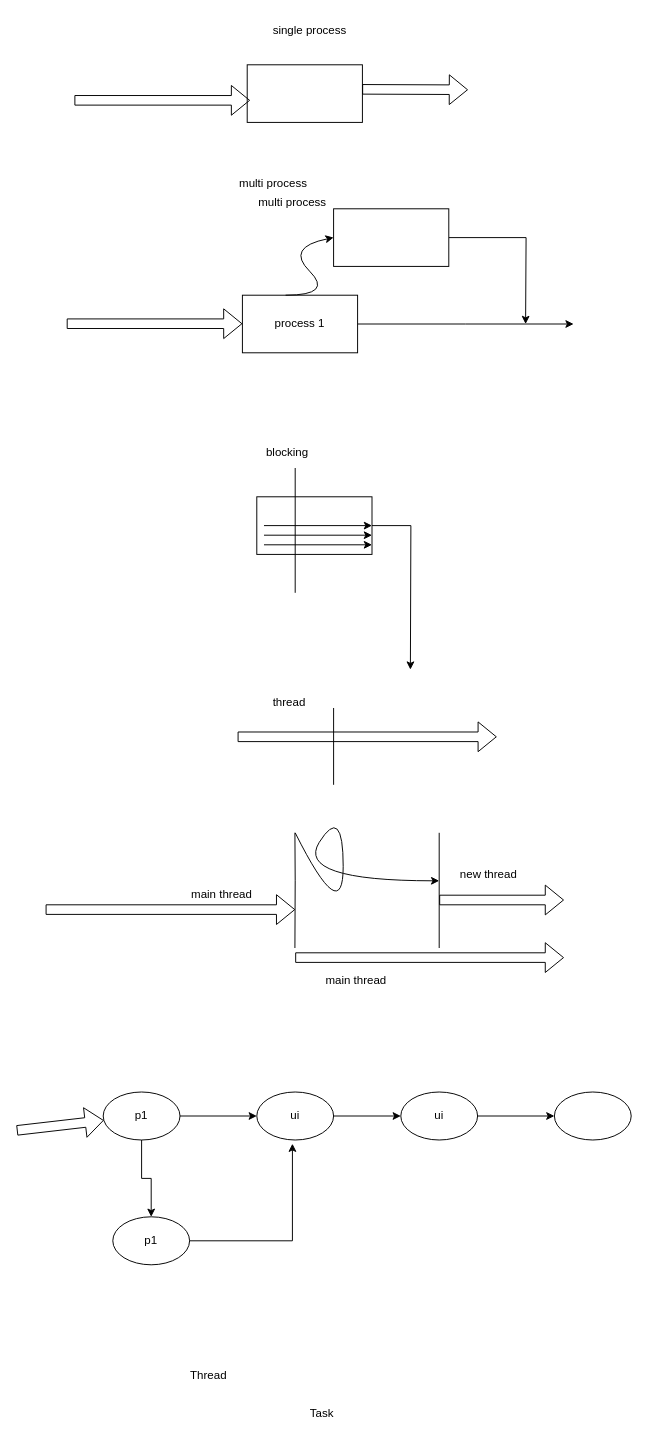
The diagram is 649 pixels wide and 1444 high, and some of its shapes have lost their labels. The shapes that lost their labels are listed below. From the top down, each one's centre as x and y in pixels, then its label:
At pixel 304 93: "فرآیند".
At pixel 391 237: "process2".
